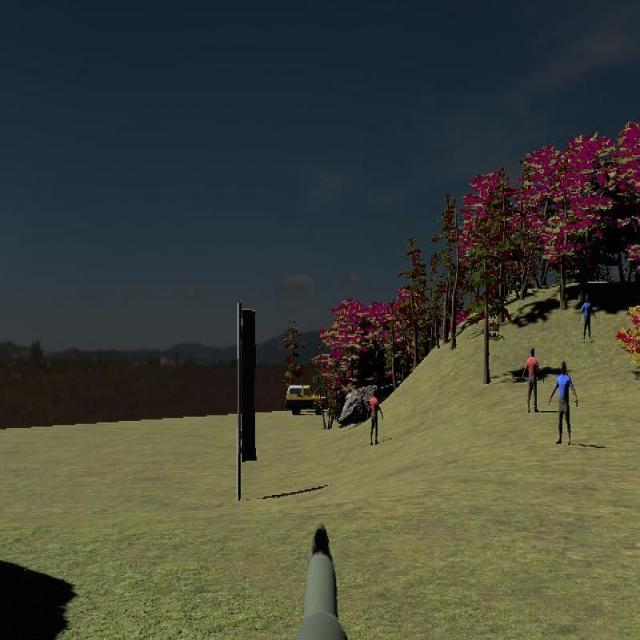Human: (549, 362, 578, 445), (522, 347, 543, 413), (368, 388, 384, 446), (578, 294, 596, 344)
car: (286, 384, 328, 416)
